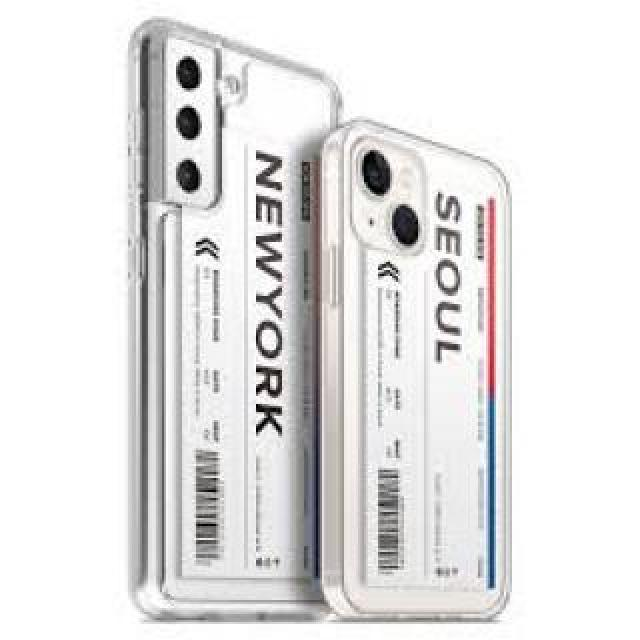smart phone: (134, 26, 334, 636), (323, 117, 525, 623)
